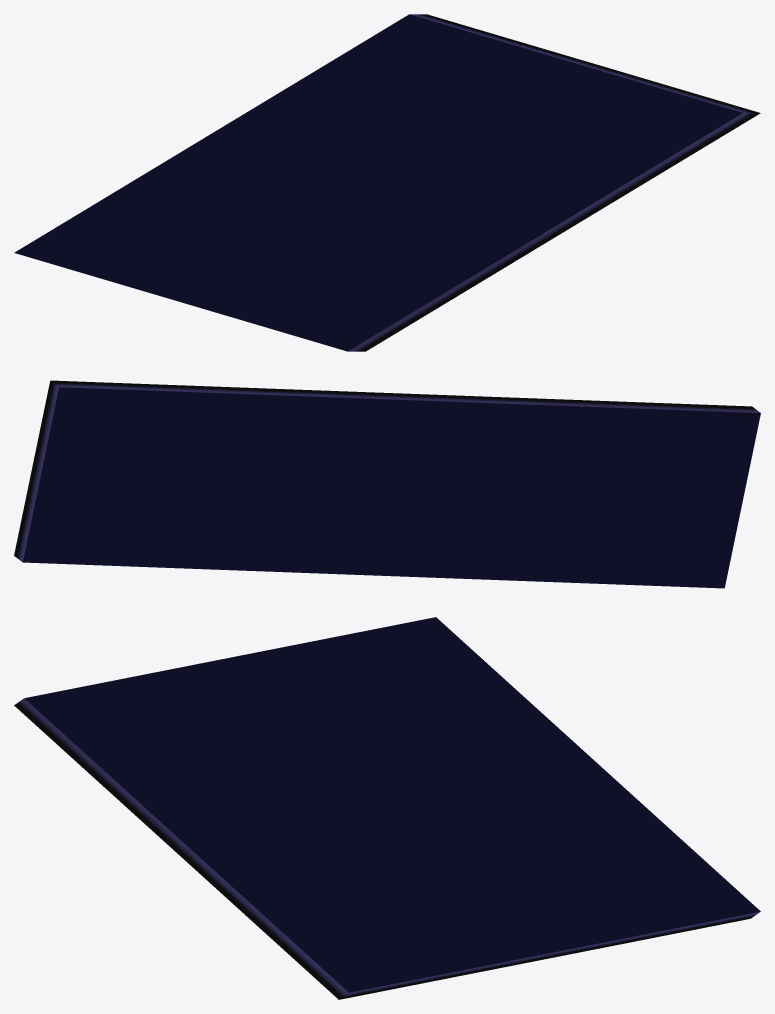
3 views of the same model, one above another, from view 1: azimuth 30°, elevation 25°; view 2: azimuth 150°, elevation 25°; view 3: azimuth 270°, elevation 25° (orthographic). The views are drawn at different scales.
Visible parts, largest first — view 1: Joint_0_Object_0; view 2: Joint_0_Object_0; view 3: Joint_0_Object_0.
Part boxes in pixels (left/top/right/bottom): Joint_0_Object_0: left=14, top=14, right=760, bottom=351; Joint_0_Object_0: left=14, top=380, right=760, bottom=588; Joint_0_Object_0: left=14, top=617, right=760, bottom=999.
Size of the model in its own units: 2121 by 0 by 1749.
Materials: 1 (1 with a texture image).
